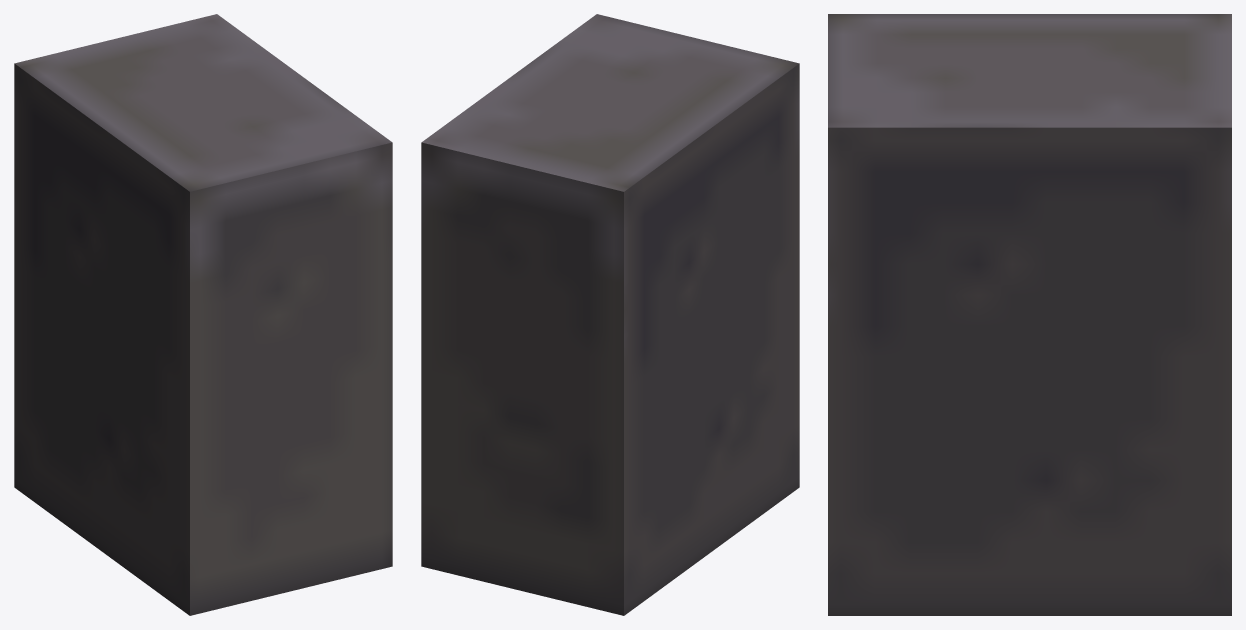
File: block_16x8x12_type_01_purple.fbx
The picture shows the model from 3 angles, left to right: view 1: azimuth 30°, elevation 25°; view 2: azimuth 150°, elevation 25°; view 3: azimuth 270°, elevation 25°; orthographic projection. The views are drawn at different scales.
Parts seen in each view (by area): view 1: block_16x8x12_type_01_purple; view 2: block_16x8x12_type_01_purple; view 3: block_16x8x12_type_01_purple.
Boxes of the visible parts, bbox=[...] form: block_16x8x12_type_01_purple: bbox=[14, 14, 392, 615]; block_16x8x12_type_01_purple: bbox=[421, 14, 799, 615]; block_16x8x12_type_01_purple: bbox=[828, 14, 1231, 615].
Bounding box in the file's own units: 8 × 16 × 12.
